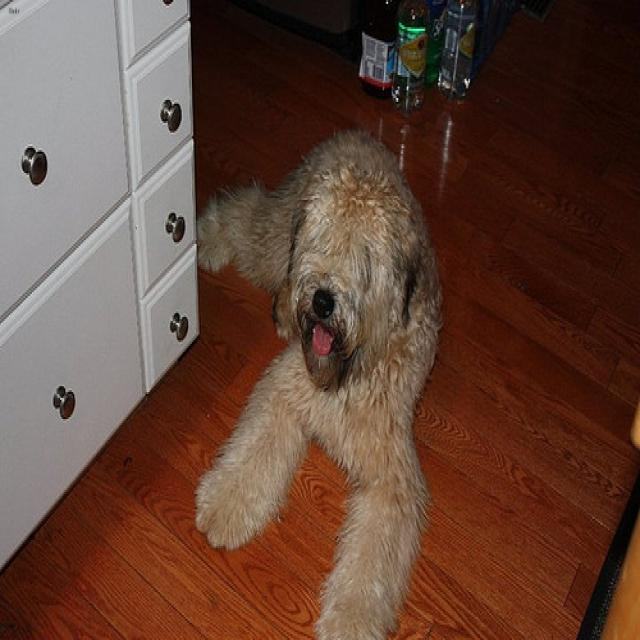dog-wheaten_terrier: (183, 117, 453, 636)
